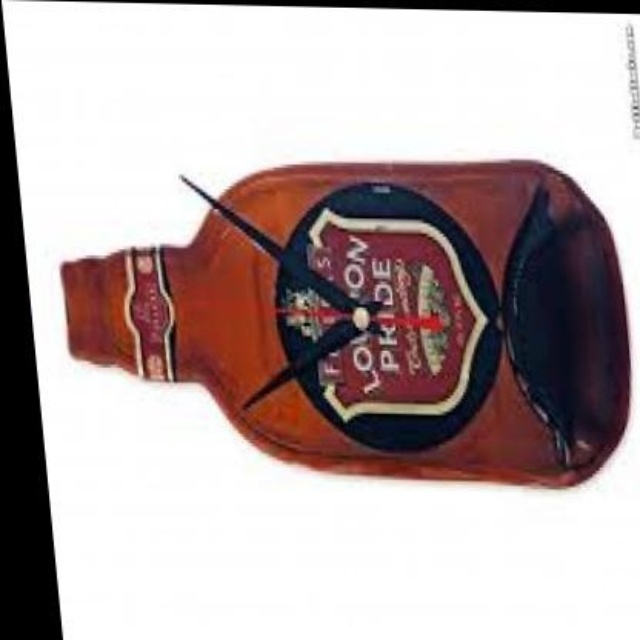trash: (62, 162, 628, 485)
